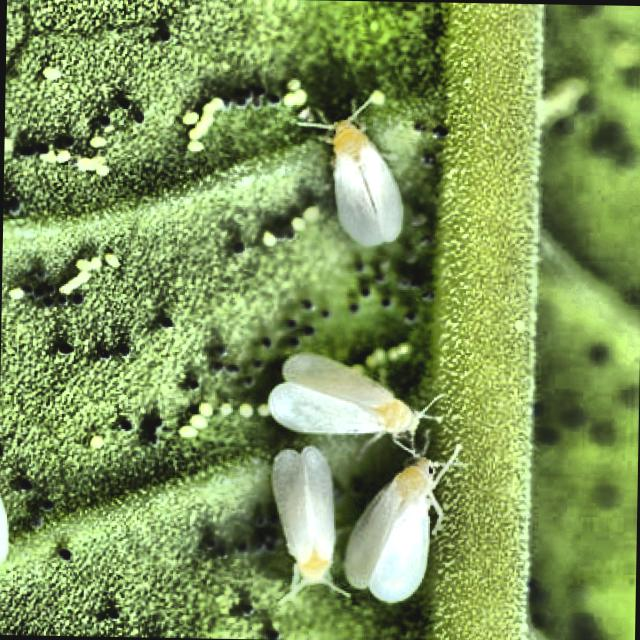egg: (183, 101, 222, 152), (40, 148, 107, 172), (57, 261, 101, 294), (365, 349, 385, 367), (387, 345, 410, 359), (283, 92, 304, 106), (42, 66, 59, 81), (261, 230, 275, 246), (188, 416, 206, 428), (290, 216, 304, 231), (238, 404, 253, 417), (86, 257, 101, 270), (368, 92, 384, 104), (104, 254, 118, 267), (179, 426, 195, 437), (88, 135, 104, 146), (188, 140, 202, 152), (197, 403, 212, 414), (302, 208, 317, 217), (258, 404, 269, 415), (88, 437, 103, 444), (219, 404, 231, 411), (76, 261, 81, 270)
whitefly: (300, 111, 402, 246), (344, 459, 440, 602), (269, 355, 421, 437), (271, 448, 345, 600)
